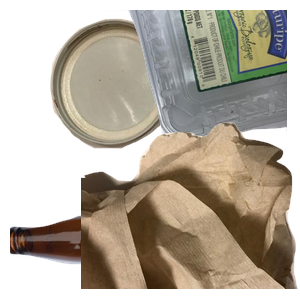glass: (10, 188, 250, 300)
metal: (47, 16, 214, 157)
plastic: (60, 10, 300, 149)
trash: (81, 120, 300, 300)
